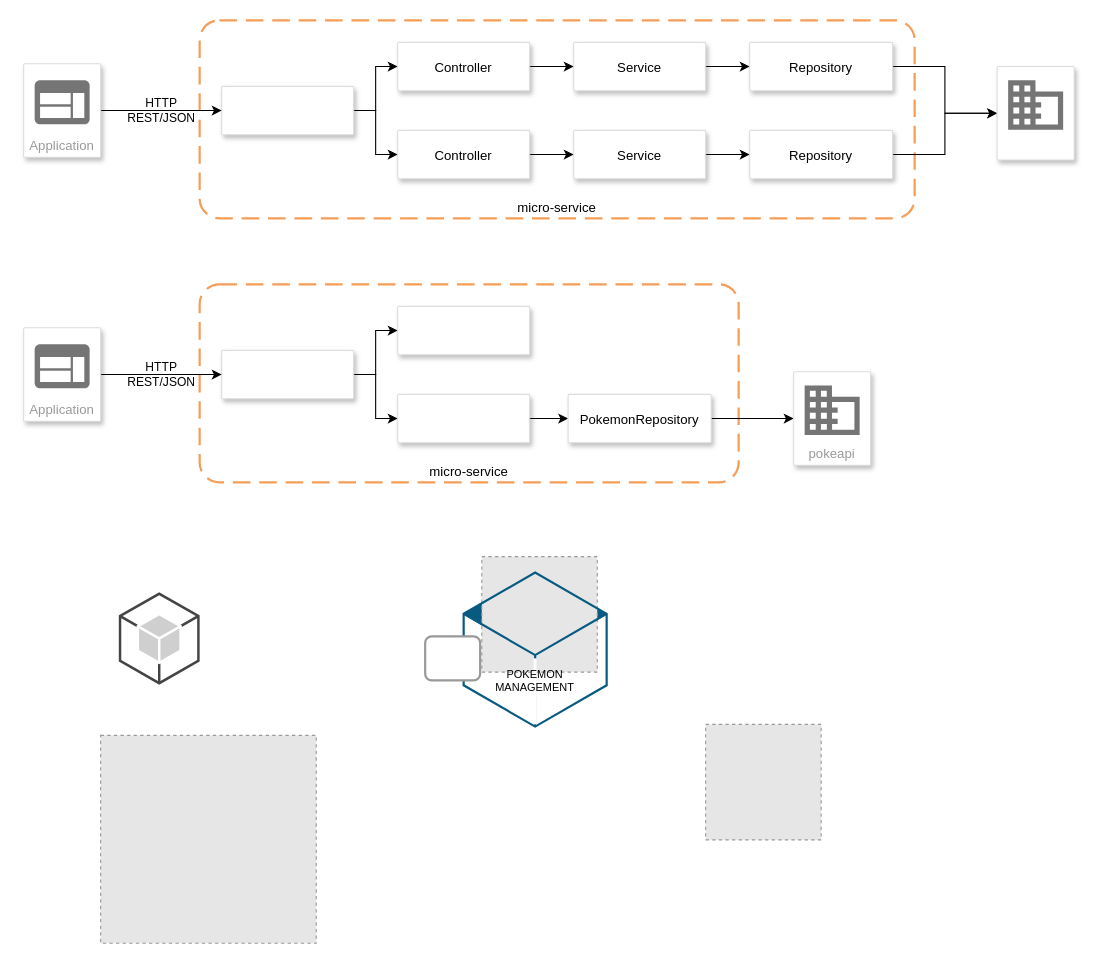
This 1100x963 diagram has some shape labels left out. Grey dashed boxes stand in for pictures. The shapes that lost their labels are listed below. From the top down, each one's centre as x and y in pixels, then its label:
At [288,111]: "Servlet".
At [1036,114]: "Database".
At [464,331]: "HelloController".
At [288,375]: "DispatcherServlet".
At [464,419]: "PokemonController".
At [452,658]: "REST API".
